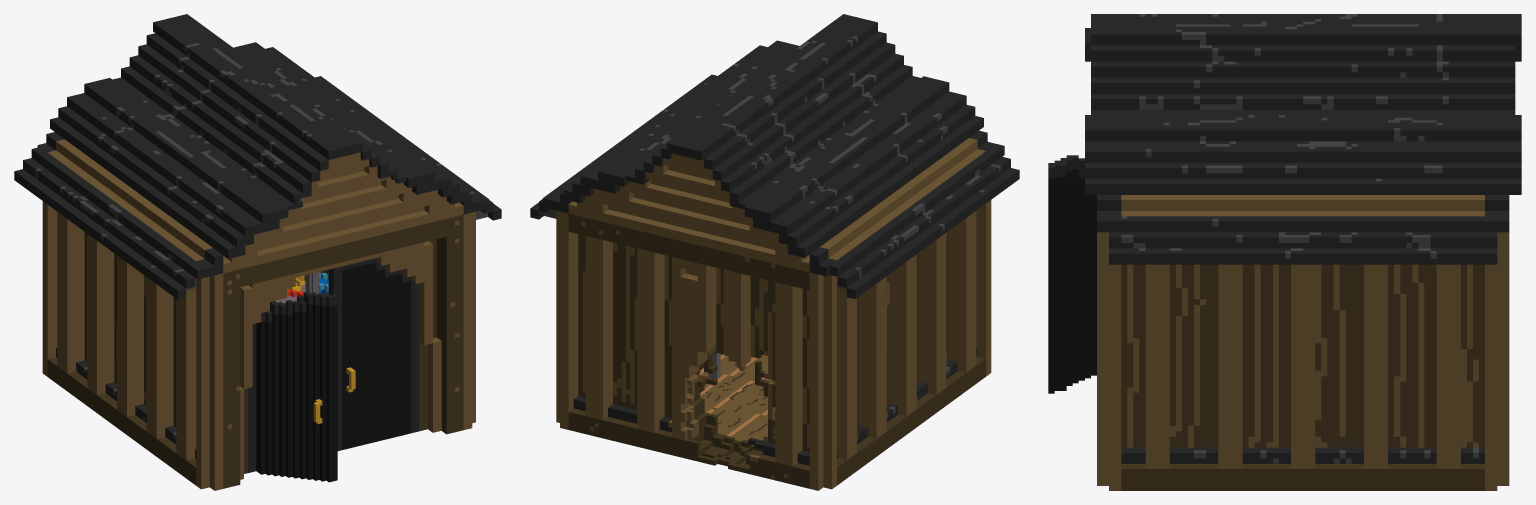
File: SHED F.obj
3 renders of one model, left to right at view 1: azimuth 30°, elevation 25°; view 2: azimuth 150°, elevation 25°; view 3: azimuth 270°, elevation 25°, orthographic. The views are drawn at different scales.
Size of the model in its own units: 15.2 by 14 by 15.6.
1 material, 1 textured.
